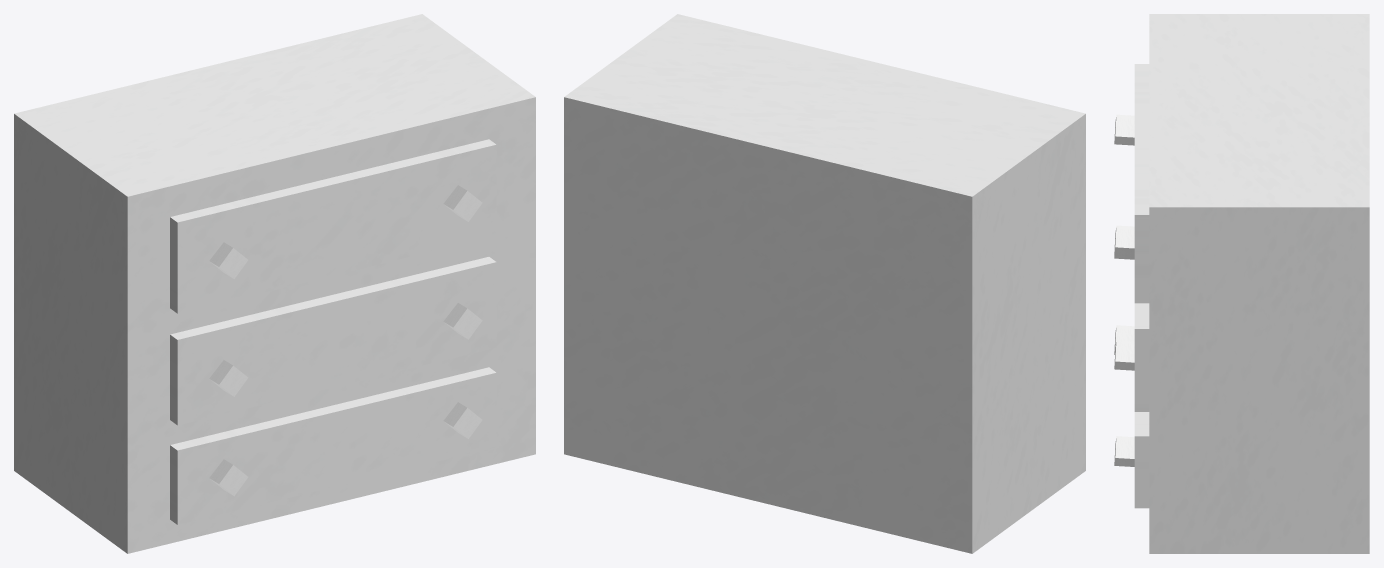
File: dresser.fbx
3 views of the same model, side by side, from view 1: azimuth 30°, elevation 25°; view 2: azimuth 150°, elevation 25°; view 3: azimuth 270°, elevation 25° (orthographic). The views are drawn at different scales.
Visible parts, largest first — view 1: polySurface725; view 2: polySurface725; view 3: polySurface725.
Boxes of the visible parts, box(x1,y1,x2,y2) form: polySurface725: box(14, 14, 535, 553); polySurface725: box(564, 14, 1085, 553); polySurface725: box(1114, 14, 1369, 553).
Bounding box in the file's own units: 1.75 × 1.46 × 0.9753.
1 material, 1 textured.
